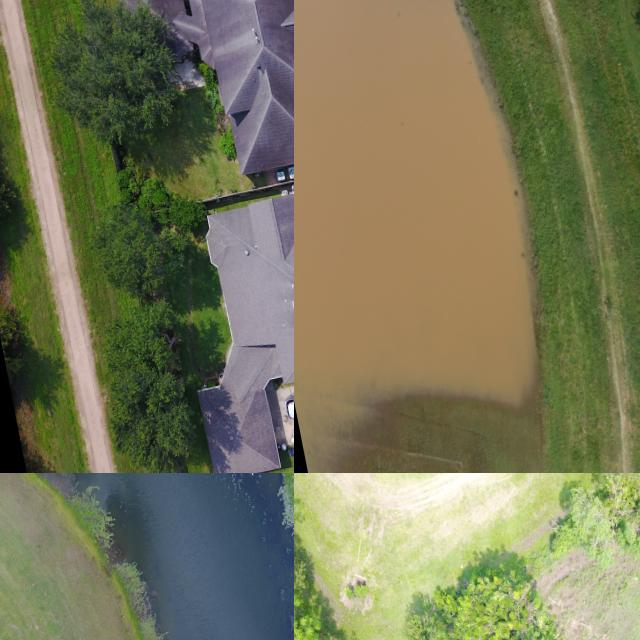fire: (294, 0, 535, 405), (46, 473, 294, 640)
